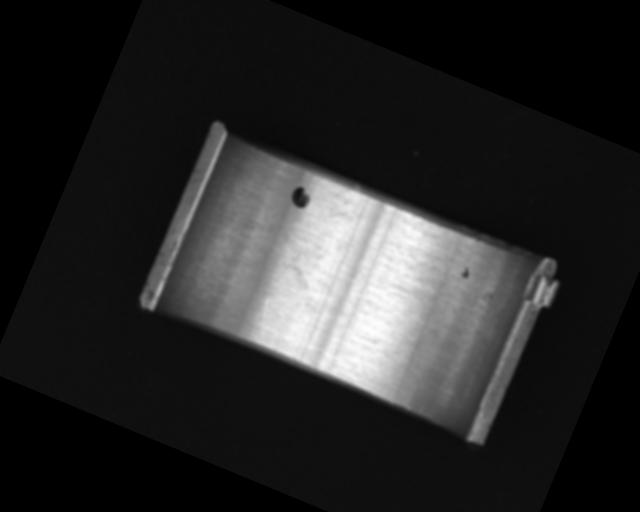blot: (262, 231, 325, 297), (287, 183, 314, 211)
bruise: (458, 265, 472, 282)
nick: (250, 296, 280, 341)
